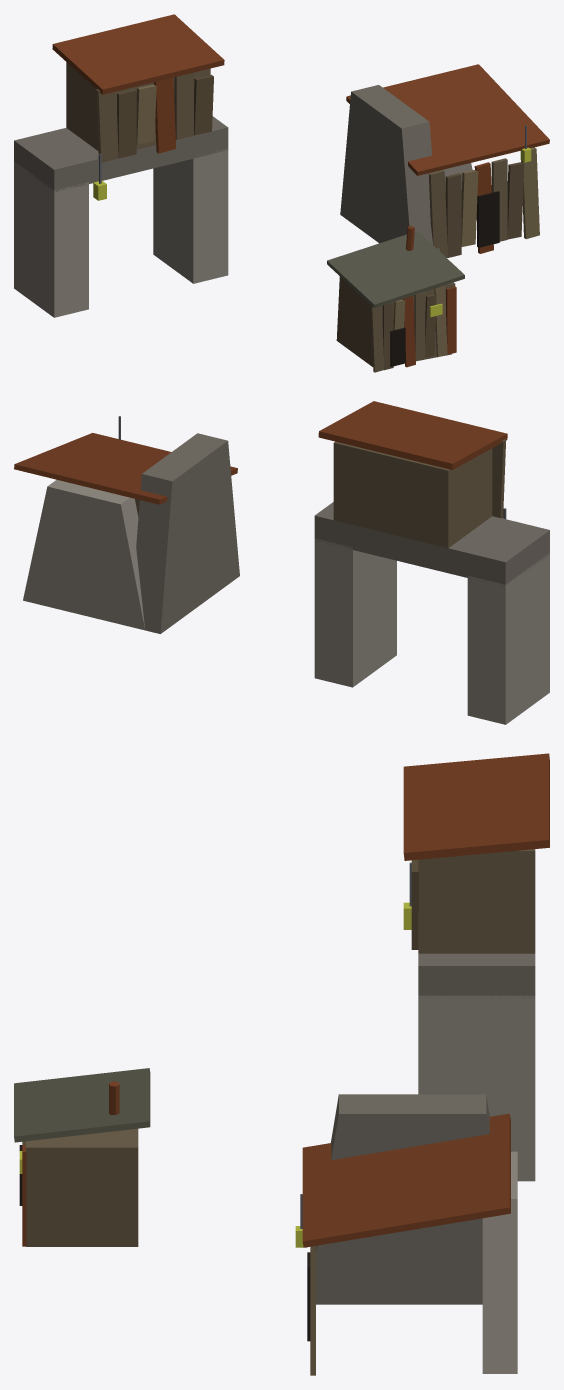
The model's file is ratfolk_compound.glb.
The picture shows the model from 3 angles, top to bottom: view 1: azimuth 30°, elevation 25°; view 2: azimuth 150°, elevation 25°; view 3: azimuth 270°, elevation 25°; orthographic projection. The views are drawn at different scales.
Parts seen in each view (by area): view 1: ratfolk_compound; view 2: ratfolk_compound; view 3: ratfolk_compound.
Part boxes in pixels (bbox=[...]): ratfolk_compound: bbox=[14, 14, 549, 372]; ratfolk_compound: bbox=[14, 401, 549, 724]; ratfolk_compound: bbox=[14, 753, 549, 1375].
Size of the model in its own units: 5.24 by 2.57 by 3.67.
